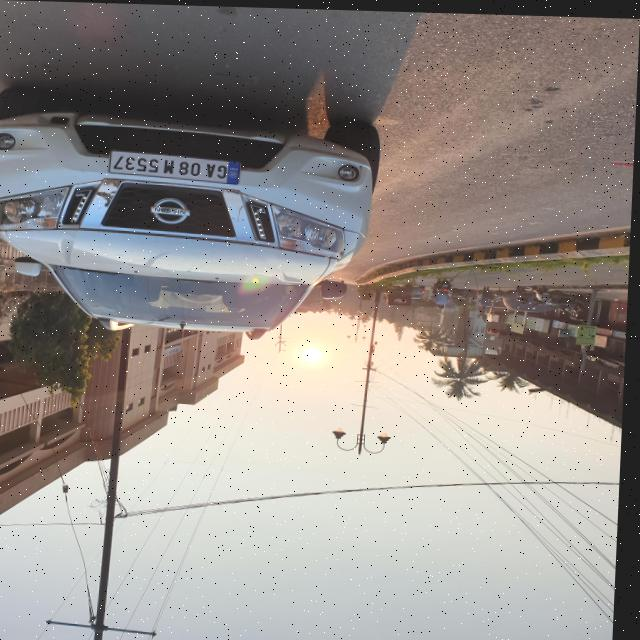plate: (98, 140, 254, 189)
